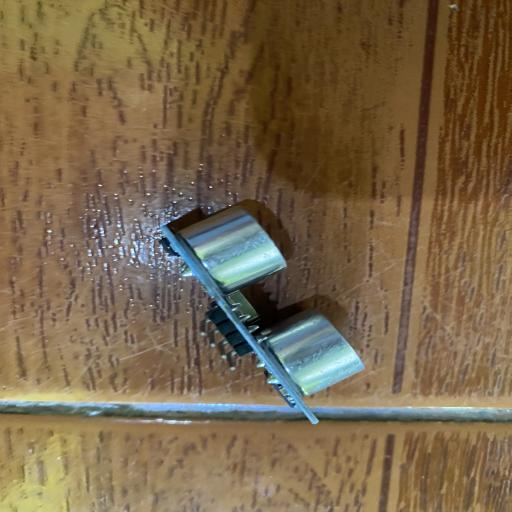Ultrasonic Sensor: (156, 202, 368, 426)
